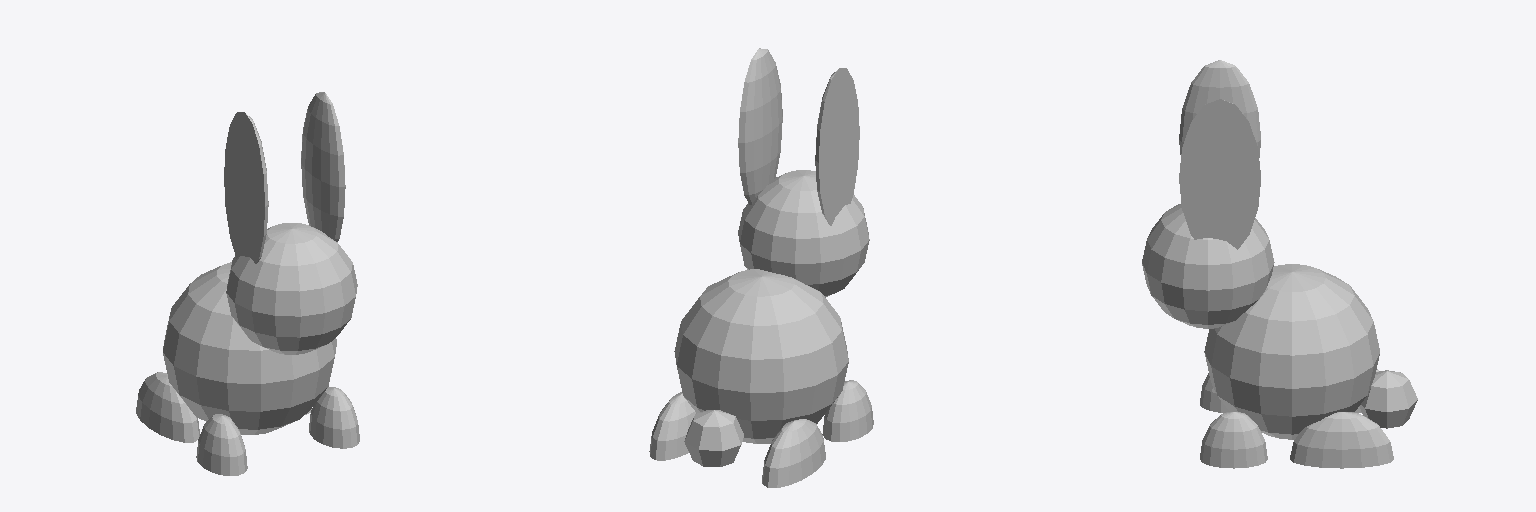
Rendered from rabbit-sitting.obj.
3 renders of one model, left to right at view 1: azimuth 30°, elevation 25°; view 2: azimuth 150°, elevation 25°; view 3: azimuth 270°, elevation 25°, orthographic.
Parts seen in each view (by area): view 1: sphere2, sphere1, sphere4_cut11, sphere4, sphere6_copy8, sphere6_copy11, sphere6_copy10; view 2: sphere2, sphere1, sphere4_cut11, sphere4, sphere6_copy8, sphere3, sphere6_copy11, sphere6_cut7; view 3: sphere2, sphere1, sphere4, sphere6_cut7, sphere4_cut11, sphere6_copy10, sphere3, sphere6_copy11.
Part boxes in pixels (bbox=[...]): sphere2: bbox=[163, 262, 336, 434]; sphere1: bbox=[226, 223, 357, 354]; sphere4_cut11: bbox=[224, 112, 268, 263]; sphere4: bbox=[301, 92, 345, 241]; sphere6_copy8: bbox=[136, 372, 199, 442]; sphere6_copy11: bbox=[196, 414, 247, 475]; sphere6_copy10: bbox=[309, 387, 359, 448]; sphere2: bbox=[674, 269, 848, 443]; sphere1: bbox=[738, 170, 869, 297]; sphere4_cut11: bbox=[815, 68, 859, 225]; sphere4: bbox=[738, 48, 782, 204]; sphere6_copy8: bbox=[762, 419, 825, 487]; sphere3: bbox=[684, 410, 743, 466]; sphere6_copy11: bbox=[822, 380, 873, 441]; sphere6_cut7: bbox=[649, 392, 695, 460]; sphere2: bbox=[1204, 264, 1379, 439]; sphere1: bbox=[1142, 204, 1274, 328]; sphere4: bbox=[1179, 99, 1260, 249]; sphere6_cut7: bbox=[1290, 412, 1393, 468]; sphere4_cut11: bbox=[1179, 60, 1260, 157]; sphere6_copy10: bbox=[1200, 412, 1267, 468]; sphere3: bbox=[1359, 370, 1417, 428]; sphere6_copy11: bbox=[1200, 373, 1229, 412].
Bounding box in the file's own units: 2 × 4.41 × 3.14.